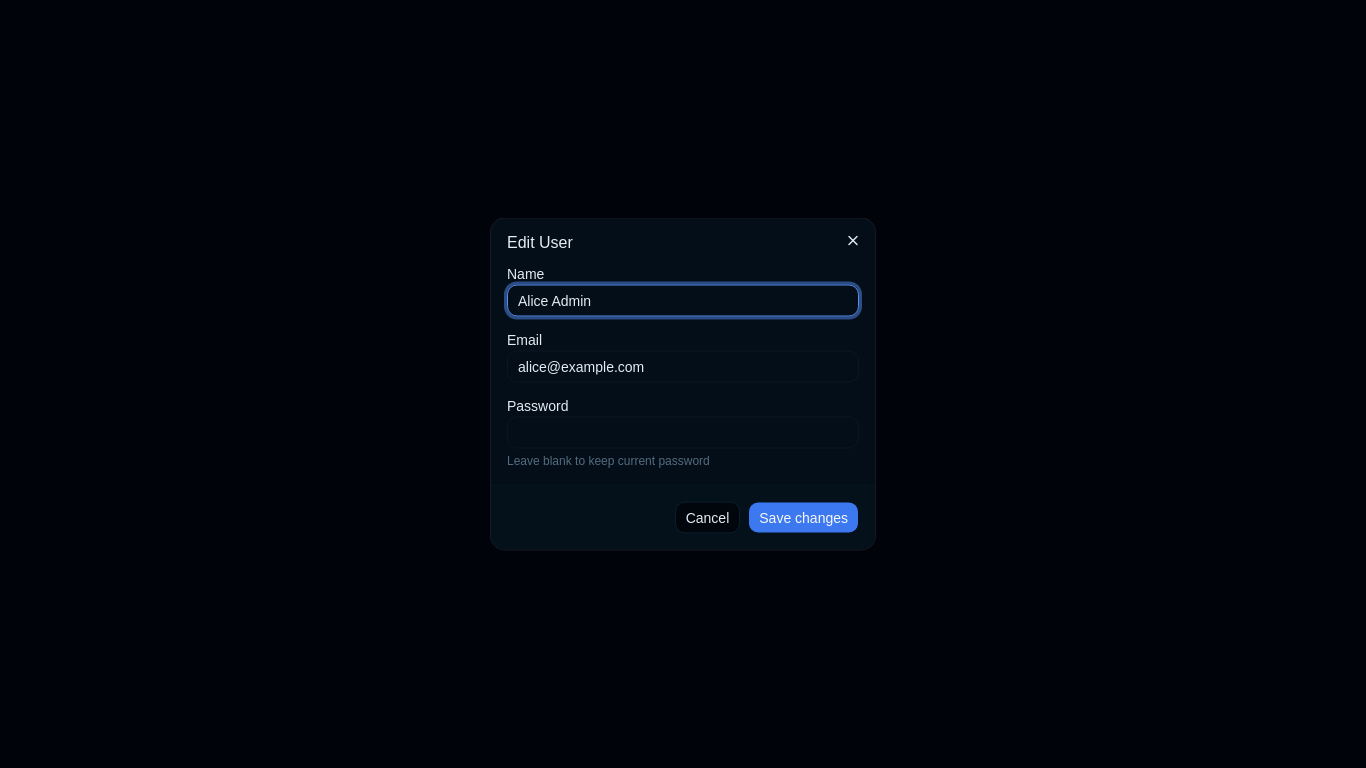
Test case: EditUserModal › validation › shows an error when name is too short
Replace the text in the field labelled "Name" with "ab" at (683, 300), box x1=507 y1=284 x2=859 y2=316
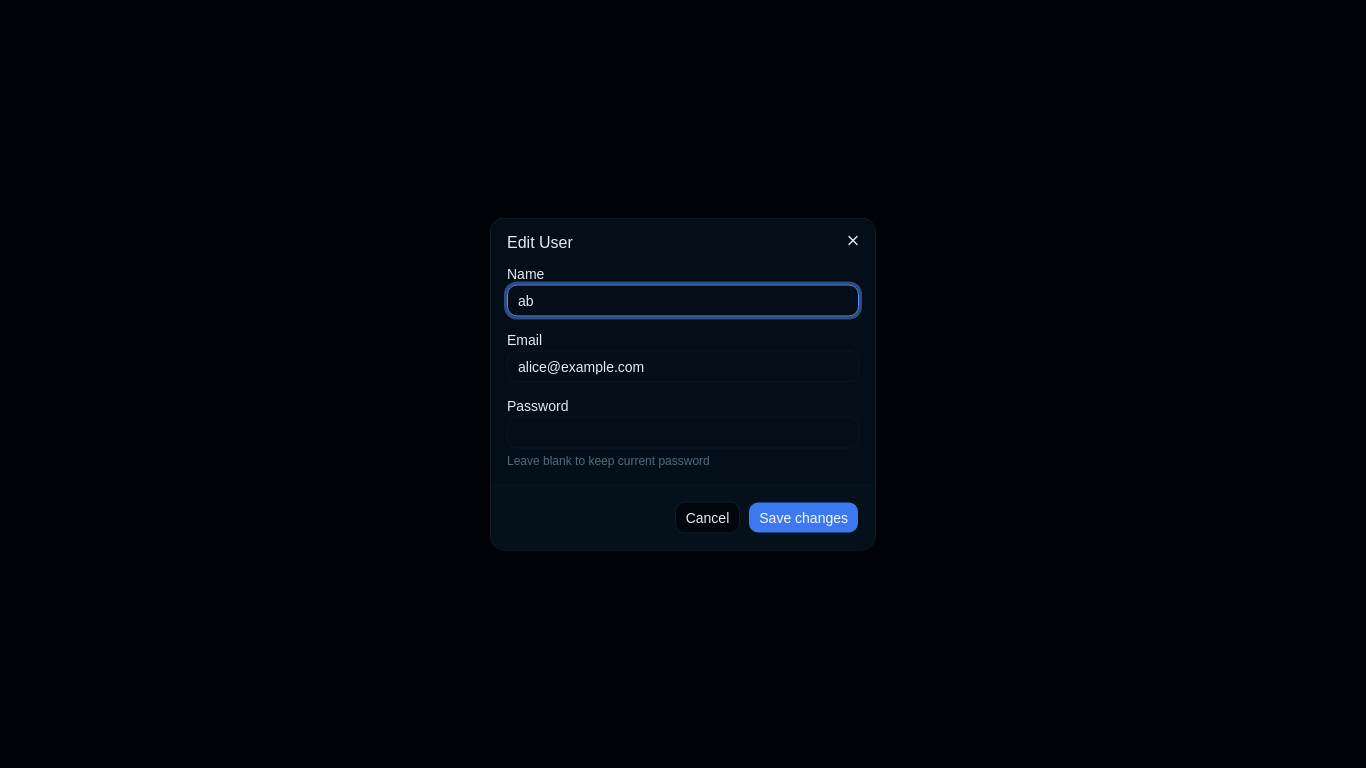
Click the button "Save changes" at (804, 518), box x1=748 y1=502 x2=859 y2=534
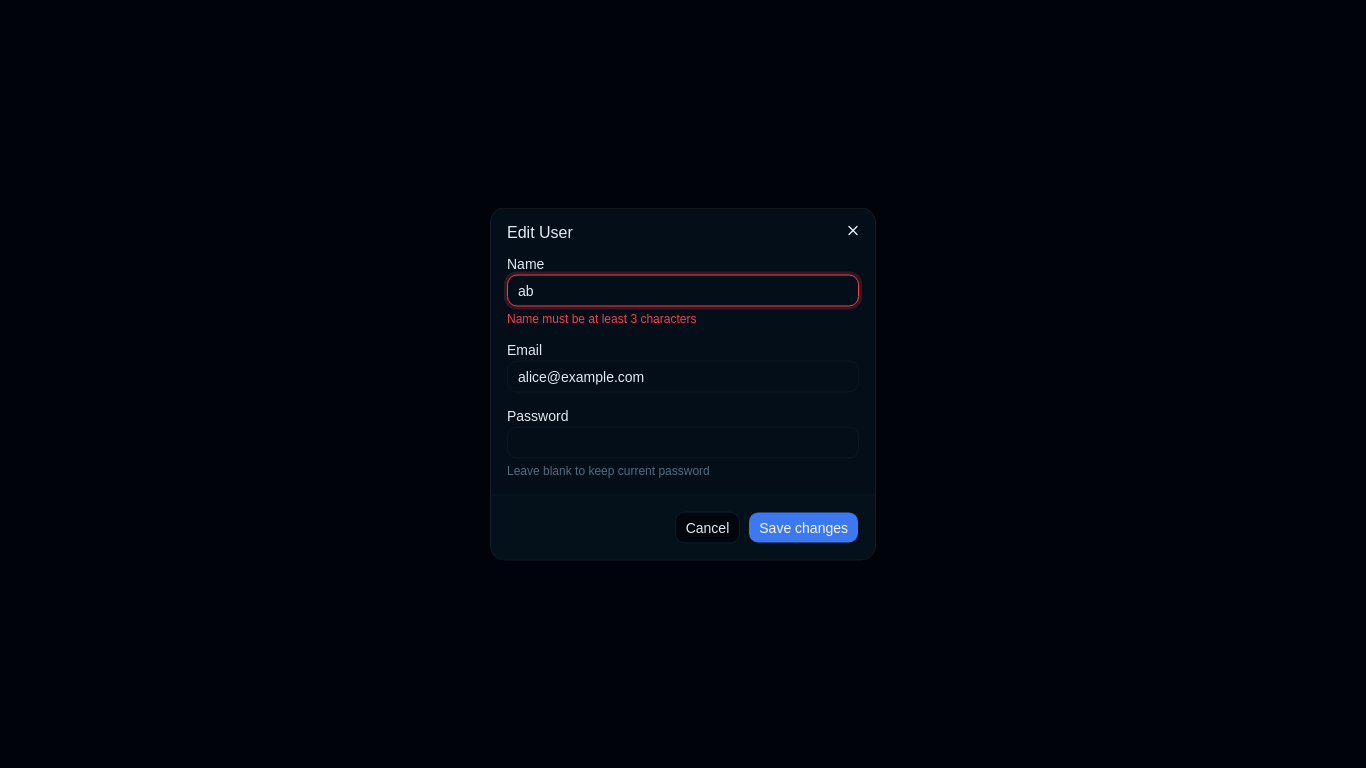
Check: the text "Name must be at least 3 characters" is shown, box x1=507 y1=312 x2=696 y2=326
